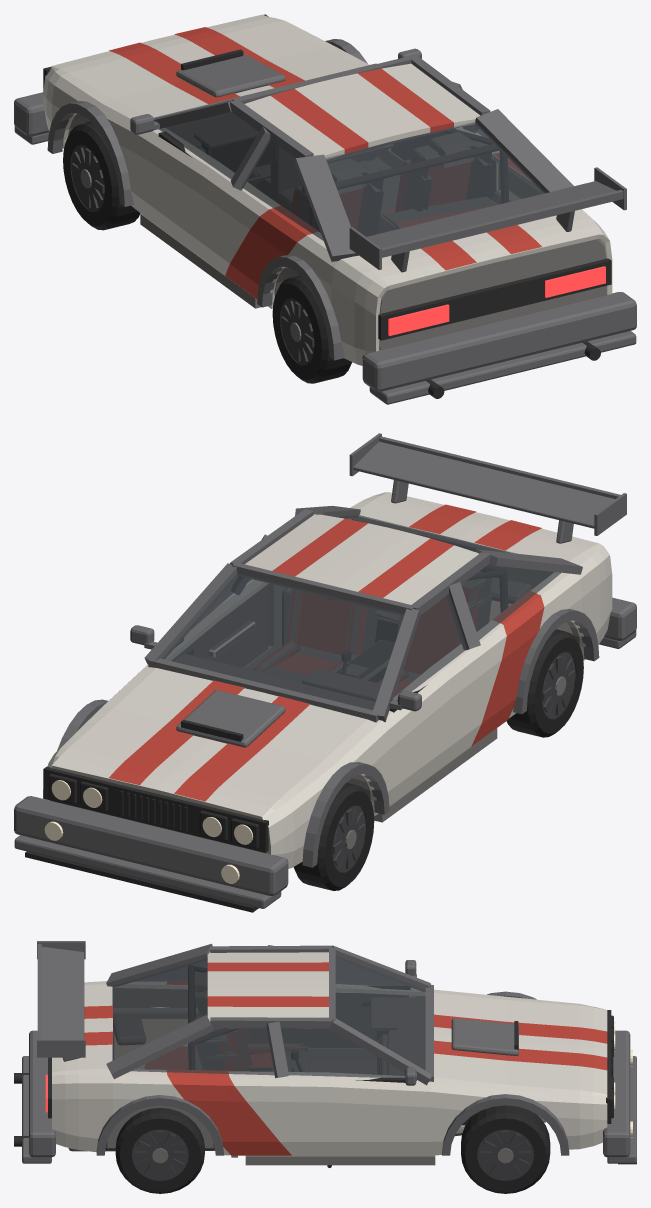
Rendered from Racer01.fbx.
3 renders of one model, top to bottom at view 1: azimuth 30°, elevation 25°; view 2: azimuth 150°, elevation 25°; view 3: azimuth 270°, elevation 25°, orthographic. The views are drawn at different scales.
Visible parts, largest first — view 1: RearBumper, RearGlass, Interior, Hood, Roof, DoorL, CabinFrame, Chassis, Spoiler, QuarterL, TrunkLid, Taillights (+14 smaller); view 2: Hood, Windscreen, FrontBumper, Interior, CabinFrame, DoorL, Roof, Spoiler, TrunkLid, FenderL, QuarterL, Wheel_FL (+18 smaller); view 3: DoorR, Hood, CabinFrame, Interior, QuarterR, Roof, FenderR, Windscreen, Wheel_FR, RearGlass, Wheel_RR, Spoiler (+17 smaller).
Boxes of the visible parts, bbox=[...] form: RearBumper: bbox=[362, 292, 636, 404]; RearGlass: bbox=[325, 122, 544, 236]; Interior: bbox=[247, 127, 520, 280]; Hood: bbox=[52, 14, 359, 117]; Roof: bbox=[244, 63, 480, 159]; DoorL: bbox=[146, 129, 280, 299]; CabinFrame: bbox=[154, 55, 573, 261]; Chassis: bbox=[68, 112, 606, 350]; Spoiler: bbox=[349, 167, 626, 272]; QuarterL: bbox=[261, 206, 388, 365]; TrunkLid: bbox=[354, 213, 599, 289]; Taillights: bbox=[378, 258, 611, 340]; Hood: bbox=[51, 668, 366, 819]; Windscreen: bbox=[162, 573, 404, 710]; FrontBumper: bbox=[14, 796, 288, 912]; Interior: bbox=[252, 565, 572, 696]; CabinFrame: bbox=[144, 505, 582, 722]; DoorL: bbox=[388, 620, 512, 801]; Roof: bbox=[245, 514, 478, 604]; Spoiler: bbox=[349, 433, 626, 543]; TrunkLid: bbox=[352, 492, 598, 561]; FenderL: bbox=[261, 715, 397, 868]; QuarterL: bbox=[493, 543, 612, 717]; Wheel_FL: bbox=[293, 782, 374, 890]; DoorR: bbox=[228, 1071, 417, 1155]; Hood: bbox=[434, 993, 607, 1094]; CabinFrame: bbox=[106, 943, 433, 1085]; Interior: bbox=[105, 965, 376, 1150]; QuarterR: bbox=[52, 1069, 227, 1155]; Roof: bbox=[207, 952, 328, 1028]; FenderR: bbox=[417, 1077, 607, 1155]; Windscreen: bbox=[335, 955, 425, 1070]; Wheel_FR: bbox=[461, 1105, 550, 1193]; RearGlass: bbox=[112, 958, 207, 1060]; Wheel_RR: bbox=[115, 1107, 204, 1193]; Spoiler: bbox=[37, 941, 85, 1061].
Bounding box in the file's own units: 2.02 × 1.49 × 4.6.
